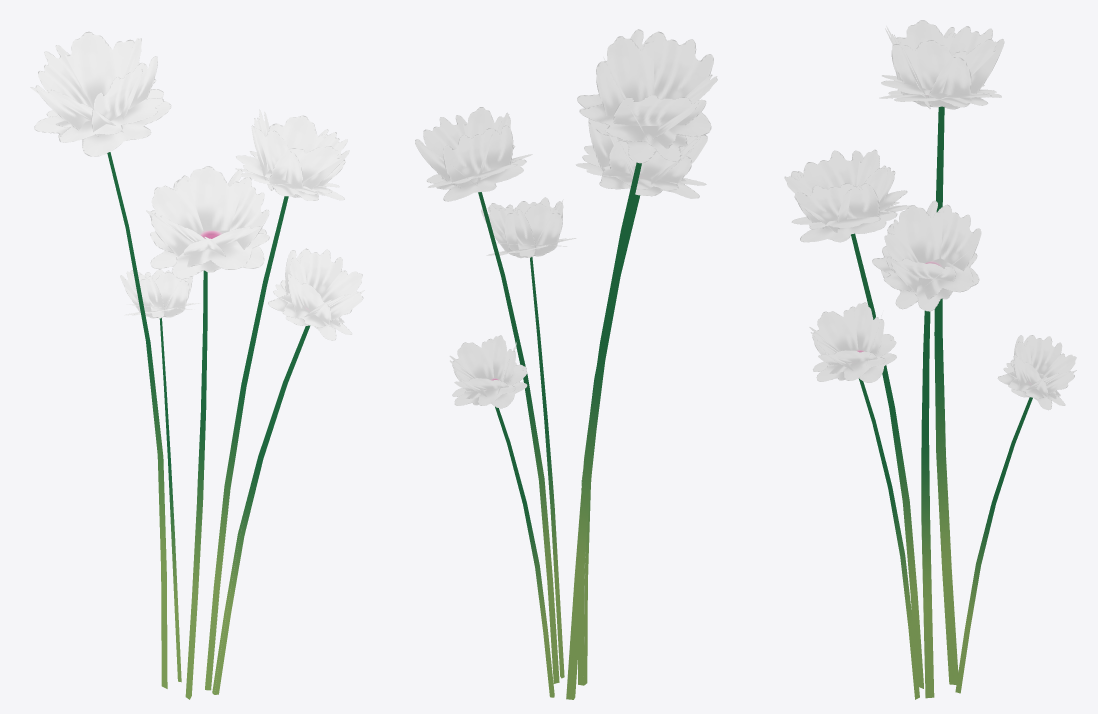
The model's file is SM_flowerpack_B_LOD0.FBX.
3 views of the same model, side by side, from view 1: azimuth 30°, elevation 25°; view 2: azimuth 150°, elevation 25°; view 3: azimuth 270°, elevation 25° (orthographic). The views are drawn at different scales.
Parts seen in each view (by area): view 1: SM_flowerpack_B_LOD0; view 2: SM_flowerpack_B_LOD0; view 3: SM_flowerpack_B_LOD0.
Part boxes in pixels (box(x1,y1,x2,y2)): SM_flowerpack_B_LOD0: box(30, 31, 364, 699); SM_flowerpack_B_LOD0: box(415, 29, 717, 699); SM_flowerpack_B_LOD0: box(784, 20, 1076, 699).
Bounding box in the file's own units: 129 × 260 × 117.
Materials: 2 (2 with a texture image).
